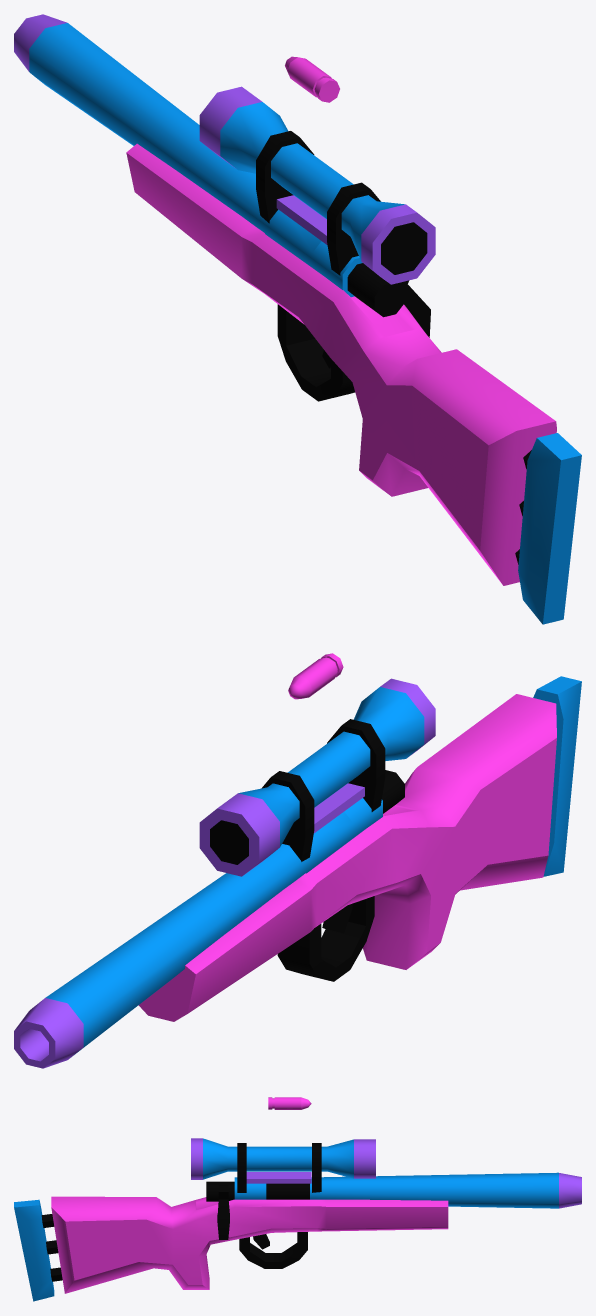
Rendered from ZaxCS.glb.
3 renders of one model, top to bottom at view 1: azimuth 30°, elevation 25°; view 2: azimuth 150°, elevation 25°; view 3: azimuth 270°, elevation 25°, orthographic. The views are drawn at different scales.
Parts seen in each view (by area): view 1: gun_m24; view 2: gun_m24; view 3: gun_m24.
Part boxes in pixels (<box>): gun_m24: <box>14,14,581,624</box>; gun_m24: <box>14,653,581,1068</box>; gun_m24: <box>14,1097,581,1301</box>.
Size of the model in its own units: 0.0525 by 0.2199 by 0.5633.
